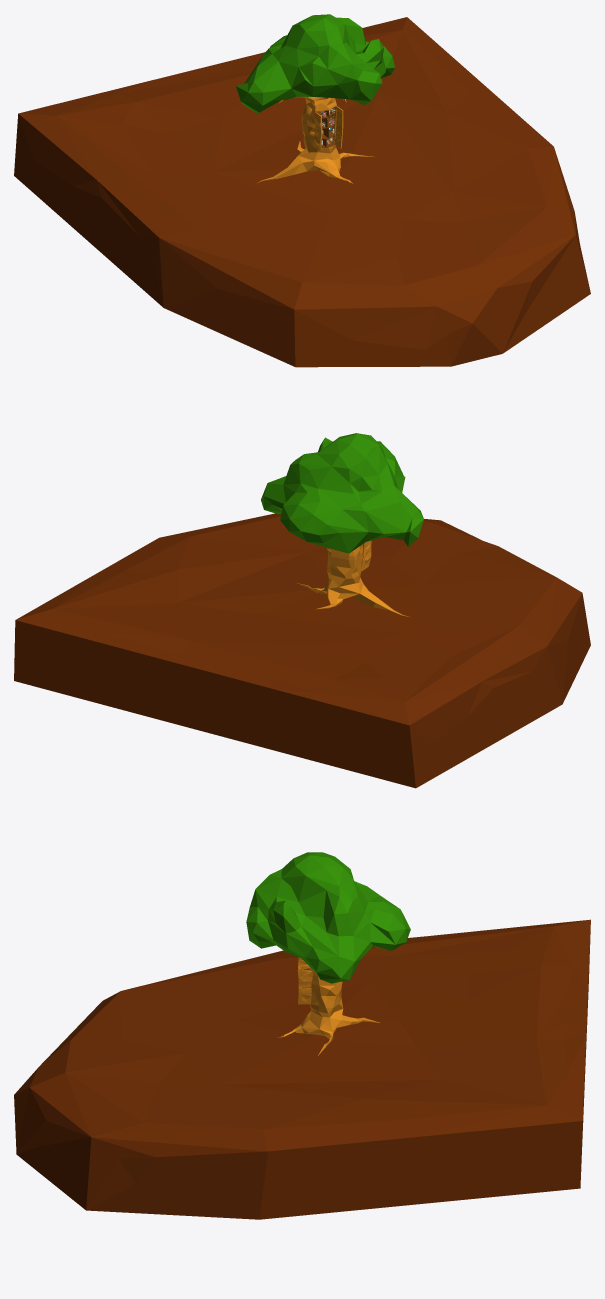
Rendered from gltf-main-merge.glb.
The picture shows the model from 3 angles, top to bottom: view 1: azimuth 30°, elevation 25°; view 2: azimuth 150°, elevation 25°; view 3: azimuth 270°, elevation 25°; orthographic projection. The views are drawn at different scales.
Parts seen in each view (by area): view 1: Plane.012; view 2: Plane.012; view 3: Plane.012.
Boxes of the visible parts, <box> form: Plane.012: <box>14,14,590,367</box>; Plane.012: <box>14,433,590,788</box>; Plane.012: <box>14,852,590,1219</box>.
Size of the model in its own units: 32.69 by 30.29 by 37.4.
